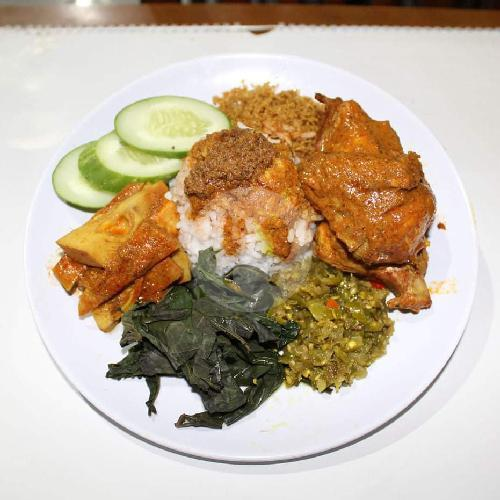buah_sayur_lainnya: (68, 218, 163, 291), (298, 303, 369, 358), (153, 308, 251, 344), (72, 150, 157, 177)
daging: (331, 123, 400, 257)
makanan_berpati: (187, 215, 305, 253)
